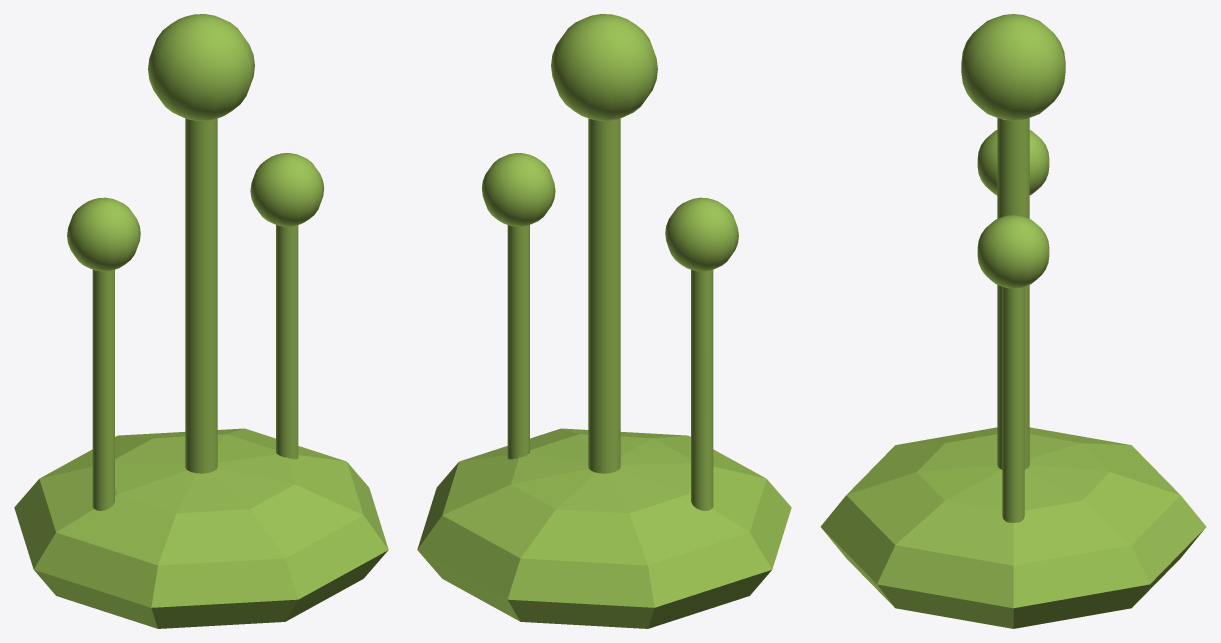
Rendered from poppy1.fbx.
3 views of the same model, side by side, from view 1: azimuth 30°, elevation 25°; view 2: azimuth 150°, elevation 25°; view 3: azimuth 270°, elevation 25° (orthographic).
Parts seen in each view (by area): view 1: PoppyBase, Stalk (×3), PoppyHead (×3); view 2: PoppyBase, Stalk (×3), PoppyHead (×3); view 3: PoppyBase, PoppyHead (×3), Stalk (×2).
Part boxes in pixels (x1,y1,x2,y2): PoppyBase: [14, 428, 388, 628]; Stalk (×3): [92, 118, 298, 510]; PoppyHead (×3): [67, 14, 324, 271]; PoppyBase: [417, 428, 791, 628]; Stalk (×3): [507, 118, 713, 510]; PoppyHead (×3): [481, 14, 738, 271]; PoppyBase: [820, 427, 1206, 628]; PoppyHead (×3): [961, 14, 1065, 288]; Stalk (×2): [997, 118, 1029, 522].
Size of the model in its own units: 2 by 3.26 by 2.
